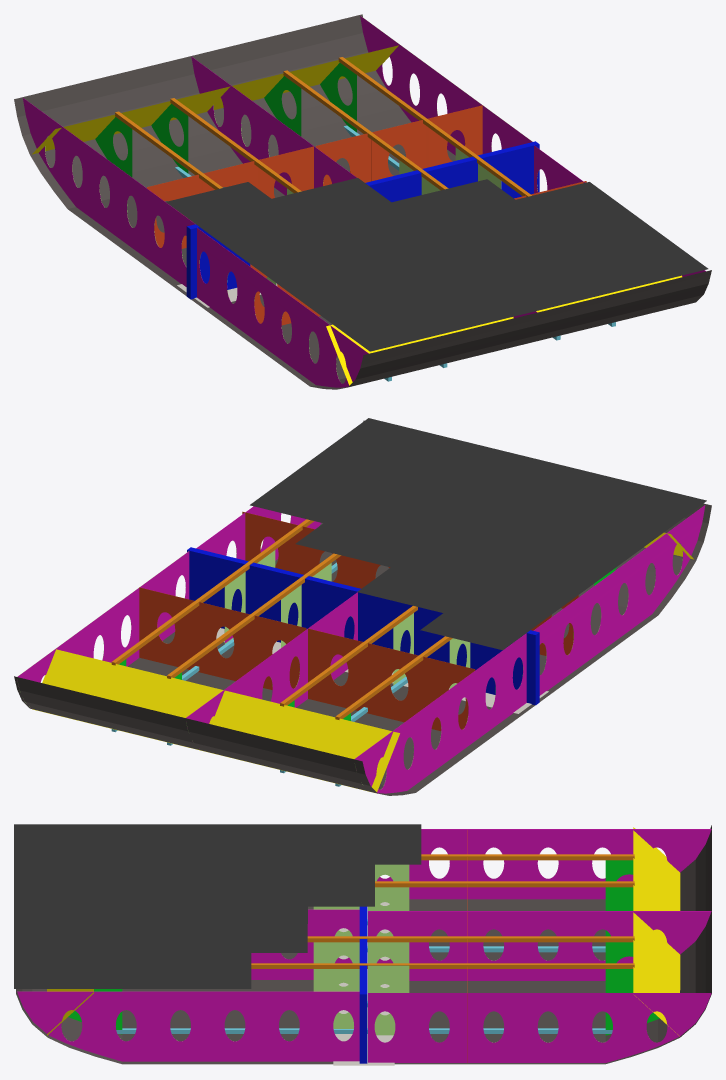
The model's file is transeverse.glb.
The picture shows the model from 3 angles, top to bottom: view 1: azimuth 30°, elevation 25°; view 2: azimuth 150°, elevation 25°; view 3: azimuth 270°, elevation 25°; orthographic projection.
Visible parts, largest first — view 1: TankTop, hull1stl.002, Plane.001, Plane.011, Cube.001, Center_Girder, Cube.006, MarginPlate, MarginPlate.001, Plane.006, Plane.008, Plane.007 (+2 smaller); view 2: TankTop, Plane.001, hull1stl.002, Cube.001, MarginPlate, Center_Girder, Plane.011, Cube.006, Cube.002, Cube.003; view 3: TankTop, Plane.001, Plane.011, hull1stl.002, Cube.006, MarginPlate, Cube.003, Center_Girder, Plane, Plane.003, Plane.006, Plane.008 (+1 smaller).
Boxes of the visible parts, x1,y1,x2,y2 form: TankTop: (166, 178, 708, 351); hull1stl.002: (14, 14, 711, 389); Plane.001: (23, 15, 532, 286); Plane.011: (197, 145, 705, 387); Cube.001: (147, 105, 482, 248); Center_Girder: (186, 141, 539, 299); Cube.006: (115, 57, 531, 196); MarginPlate: (32, 45, 398, 154); MarginPlate.001: (326, 275, 682, 385); Plane.006: (264, 76, 301, 136); Plane.008: (95, 117, 132, 177); Plane.007: (151, 104, 188, 173); TankTop: (250, 418, 706, 650); Plane.001: (17, 551, 526, 793); hull1stl.002: (14, 420, 711, 795); Cube.001: (139, 587, 475, 731); MarginPlate: (32, 649, 399, 793); Center_Girder: (187, 547, 539, 705); Plane.011: (196, 505, 705, 695); Cube.006: (111, 519, 452, 719); Cube.002: (242, 511, 578, 655); Cube.003: (111, 562, 407, 786); TankTop: (14, 824, 421, 988); Plane.001: (368, 829, 711, 1062); Plane.011: (17, 906, 359, 1061); hull1stl.002: (16, 825, 711, 1064); Cube.006: (251, 854, 634, 968); MarginPlate: (633, 827, 680, 1036); Cube.003: (116, 919, 612, 1033); Center_Girder: (359, 906, 367, 1063); Plane: (333, 902, 394, 1065); Plane.003: (605, 969, 659, 1035); Plane.006: (605, 942, 633, 992); Plane.008: (605, 860, 633, 910).
Bounding box in the file's own units: 22.57 × 4.53 × 38.88.
